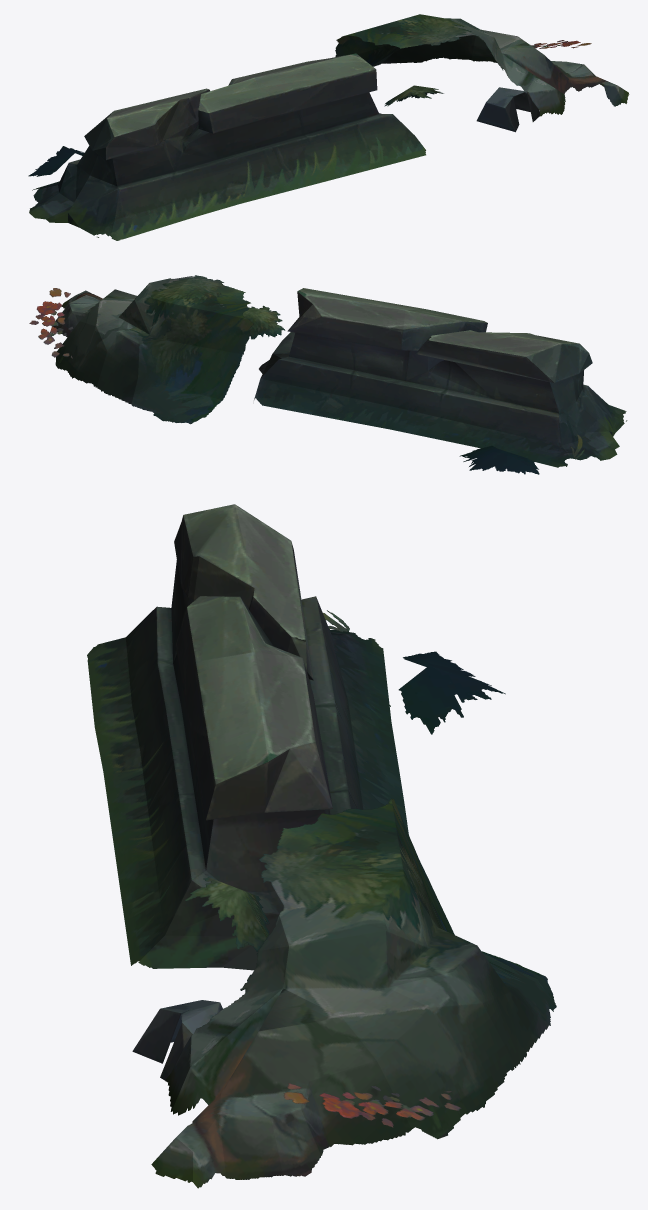
File: MapObject_34.FBX
3 renders of one model, top to bottom at view 1: azimuth 30°, elevation 25°; view 2: azimuth 150°, elevation 25°; view 3: azimuth 270°, elevation 25°, orthographic. The views are drawn at different scales.
Visible parts, largest first — view 1: polySurfaceMapGeoMesh210; view 2: polySurfaceMapGeoMesh210; view 3: polySurfaceMapGeoMesh210.
Boxes of the visible parts, x1=… form: polySurfaceMapGeoMesh210: x1=28, y1=14, x2=629, y2=240; polySurfaceMapGeoMesh210: x1=29, y1=275, x2=627, y2=474; polySurfaceMapGeoMesh210: x1=87, y1=504, x2=556, y2=1188.
Bounding box in the file's own units: 926 × 154 × 330.
